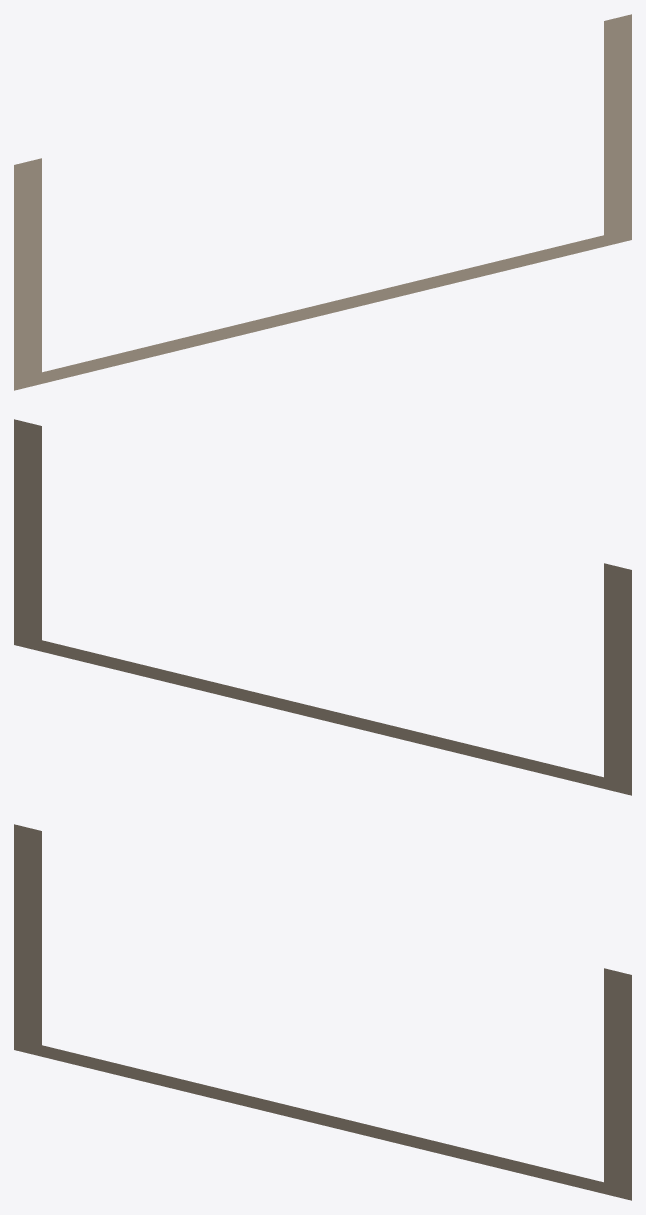
Rendered from kd_stage_135ded_4_105_bounded_piece_3.glb.
The picture shows the model from 3 angles, top to bottom: view 1: azimuth 30°, elevation 25°; view 2: azimuth 150°, elevation 25°; view 3: azimuth 330°, elevation 25°; orthographic projection.
Parts seen in each view (by area): view 1: kd_stage_135ded_4_105_bounded_piece_3; view 2: kd_stage_135ded_4_105_bounded_piece_3; view 3: kd_stage_135ded_4_105_bounded_piece_3.
Boxes of the visible parts, x1,y1,x2,y2 form: kd_stage_135ded_4_105_bounded_piece_3: (14, 14, 631, 390); kd_stage_135ded_4_105_bounded_piece_3: (14, 419, 631, 795); kd_stage_135ded_4_105_bounded_piece_3: (14, 824, 631, 1200).
Bounding box in the file's own units: 0.7697 × 0.2687 × 0.
1 material, 1 textured.
